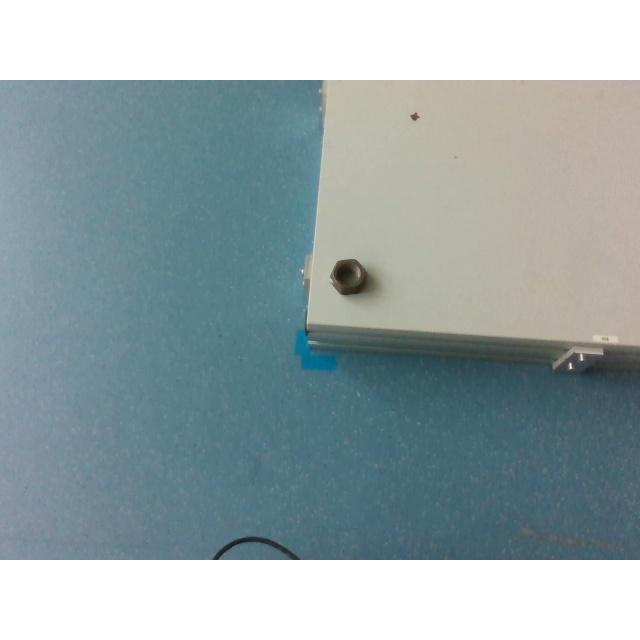M30: (328, 258, 367, 294)
